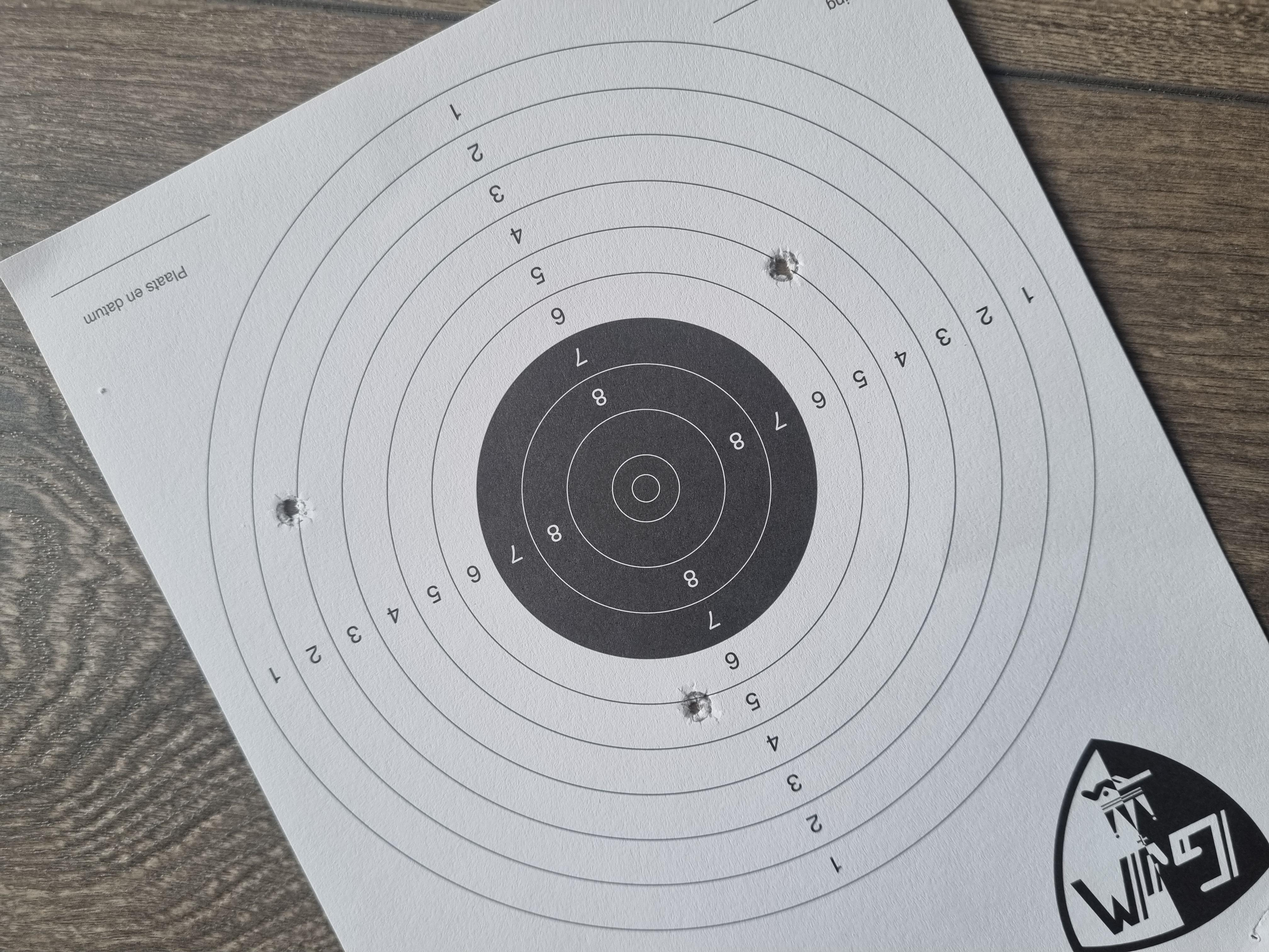hole: (566, 205, 612, 233), (891, 574, 936, 602), (306, 508, 351, 535)
